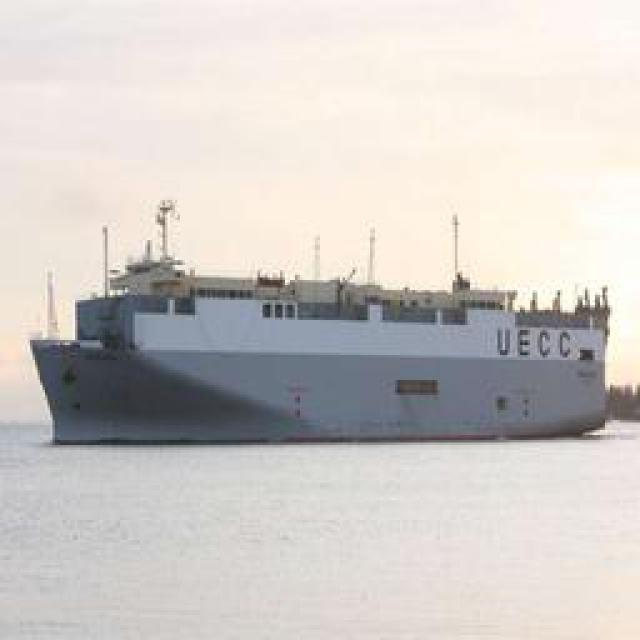Ship: (36, 207, 619, 445)
